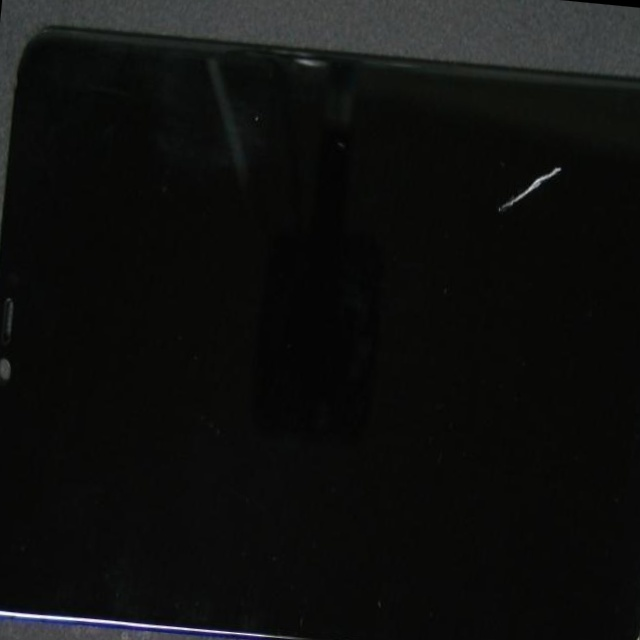scratch: (316, 23, 640, 246)
